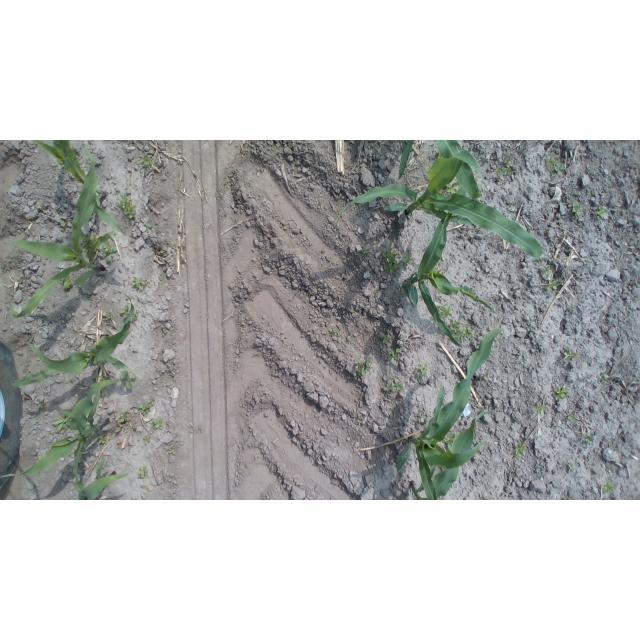Maize: (337, 140, 544, 258), (398, 327, 503, 500), (0, 146, 106, 317), (404, 212, 500, 346), (1, 379, 120, 485), (9, 295, 135, 389), (30, 141, 128, 238), (409, 409, 496, 500), (398, 140, 482, 201), (74, 457, 131, 500)
Weeds: (382, 248, 415, 277), (447, 320, 474, 341), (117, 195, 137, 219), (495, 156, 514, 181), (99, 240, 118, 263), (566, 196, 584, 220), (546, 156, 566, 177), (81, 235, 95, 264), (352, 357, 372, 377), (51, 415, 71, 433), (120, 370, 137, 390), (138, 396, 155, 416), (120, 304, 140, 320), (384, 380, 408, 393), (437, 304, 455, 321), (131, 275, 150, 291), (512, 443, 528, 458), (594, 205, 610, 220), (415, 364, 430, 378), (441, 433, 455, 447), (386, 348, 401, 361), (554, 388, 569, 401), (533, 403, 548, 416), (140, 153, 153, 167), (446, 182, 460, 195), (564, 348, 578, 361), (599, 482, 615, 493), (152, 419, 165, 432), (544, 280, 557, 293), (61, 275, 73, 289), (379, 332, 393, 344), (138, 465, 149, 480), (540, 264, 552, 276), (417, 412, 428, 424), (119, 412, 131, 423), (104, 312, 116, 321), (329, 328, 341, 337), (168, 443, 177, 454), (580, 435, 592, 443), (157, 272, 167, 281), (568, 412, 577, 422), (360, 248, 369, 257), (143, 436, 152, 445), (58, 219, 68, 227), (37, 402, 47, 410), (400, 287, 409, 295), (160, 328, 169, 336), (336, 212, 344, 221), (99, 436, 107, 444), (36, 205, 46, 211), (198, 425, 204, 435), (601, 374, 609, 381), (568, 462, 575, 469), (565, 496, 577, 500), (483, 372, 489, 380), (12, 309, 19, 315), (357, 419, 364, 425), (64, 380, 74, 384), (46, 432, 54, 437), (72, 430, 80, 435), (51, 163, 57, 169), (553, 239, 559, 245), (145, 223, 152, 228), (570, 306, 577, 311), (480, 496, 488, 500), (509, 203, 514, 208), (88, 291, 93, 295), (509, 473, 515, 476), (71, 328, 75, 332), (612, 141, 617, 144)
